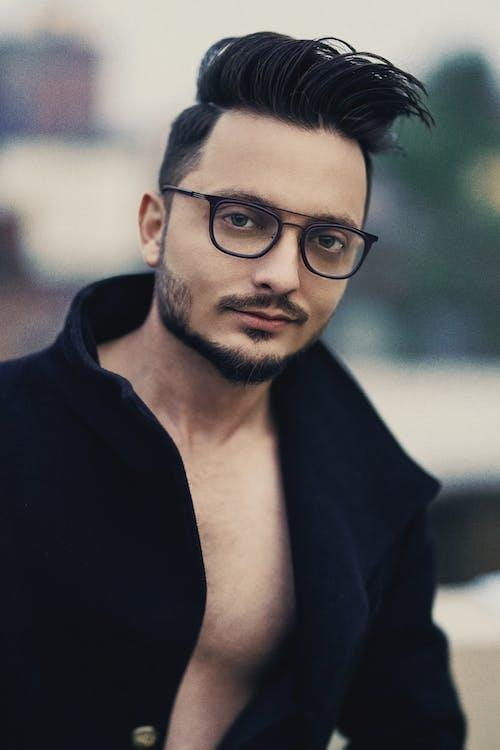eyeglasses: (198, 188, 398, 276)
